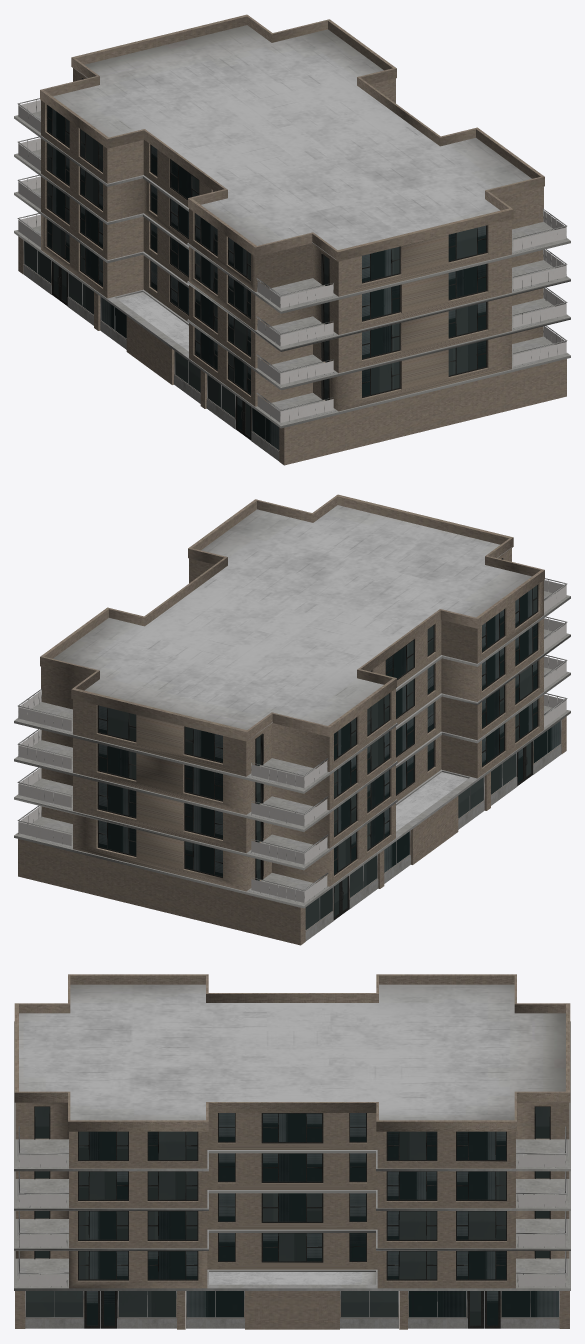
File: mid-3s.glb
The picture shows the model from 3 angles, top to bottom: view 1: azimuth 30°, elevation 25°; view 2: azimuth 150°, elevation 25°; view 3: azimuth 270°, elevation 25°; orthographic projection. The views are drawn at different scales.
Parts seen in each view (by area): view 1: Mid_Rise_Building_3_Short; view 2: Mid_Rise_Building_3_Short; view 3: Mid_Rise_Building_3_Short.
Part boxes in pixels (left/top/right/bottom): Mid_Rise_Building_3_Short: left=14, top=14, right=570, bottom=465; Mid_Rise_Building_3_Short: left=14, top=494, right=570, bottom=945; Mid_Rise_Building_3_Short: left=14, top=974, right=570, bottom=1329.
Size of the model in its own units: 20.52 by 13.54 by 32.72.
1 material, 1 textured.
